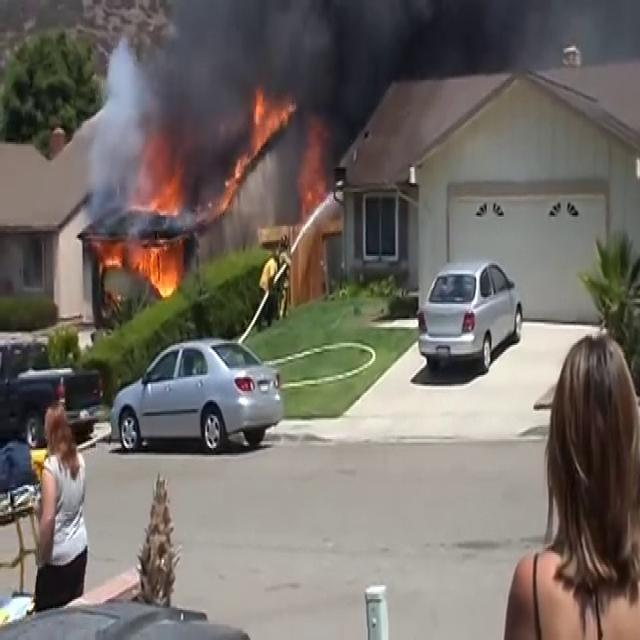Fire: (122, 144, 186, 302), (246, 85, 293, 149)
Smoke: (104, 0, 520, 156)
